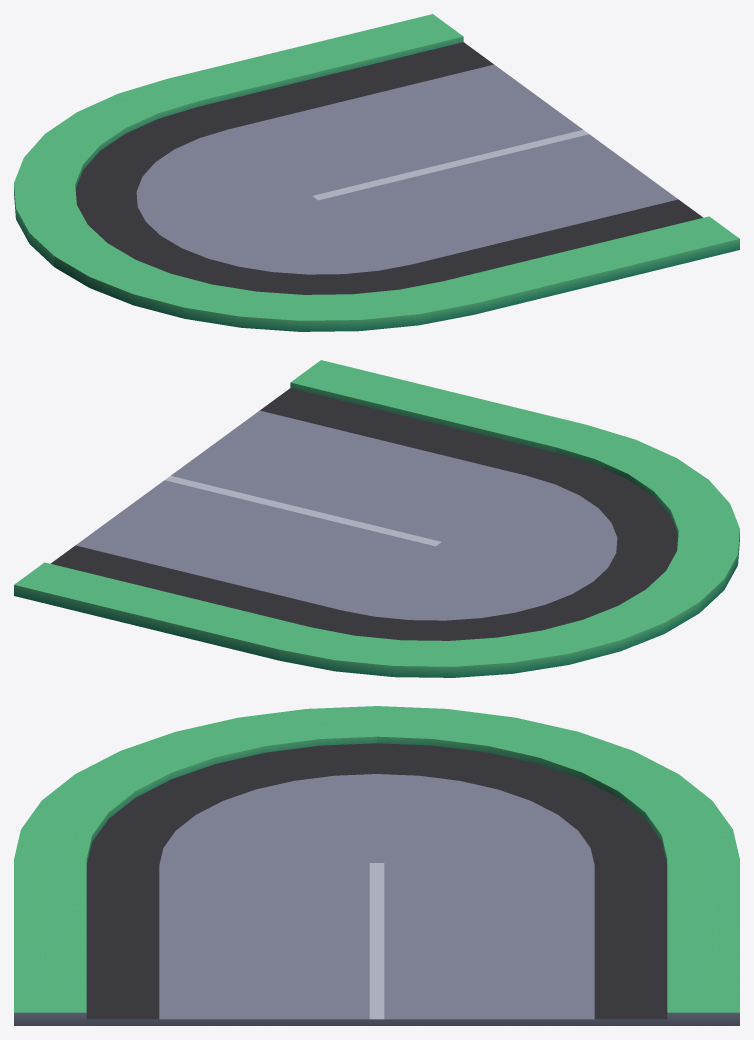
Rendered from road_end_round.glb.
3 renders of one model, top to bottom at view 1: azimuth 30°, elevation 25°; view 2: azimuth 150°, elevation 25°; view 3: azimuth 270°, elevation 25°, orthographic. The views are drawn at different scales.
Visible parts, largest first — view 1: road-end-round; view 2: road-end-round; view 3: road-end-round.
Part boxes in pixels (box(x1,y1,x2,y2)): road-end-round: box(14, 14, 739, 331); road-end-round: box(14, 360, 739, 677); road-end-round: box(14, 706, 739, 1025).
Bounding box in the file's own units: 1 × 0.02 × 1.
1 material, 1 textured.
